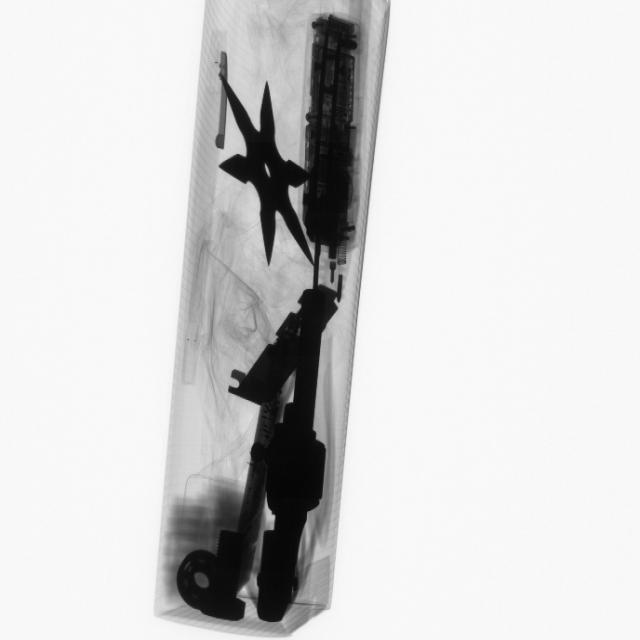GUN: (263, 294, 332, 623)
SHURIKEN: (223, 74, 315, 267)
